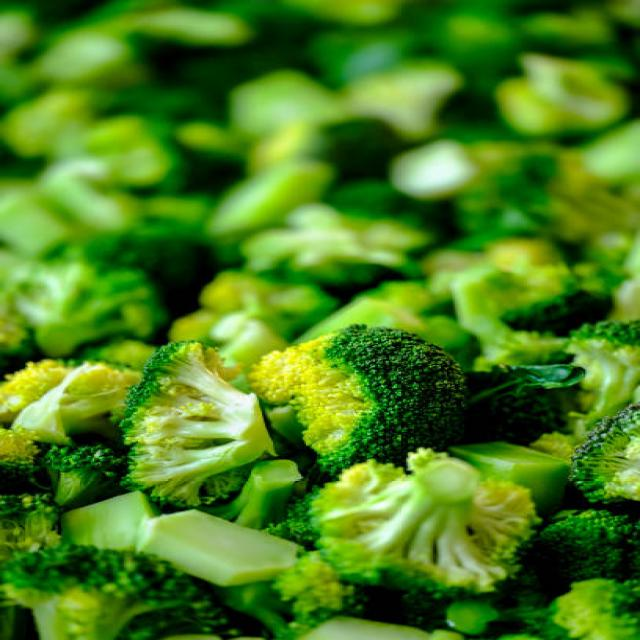broccoli: (255, 322, 490, 452), (294, 472, 535, 582), (114, 349, 268, 478)
